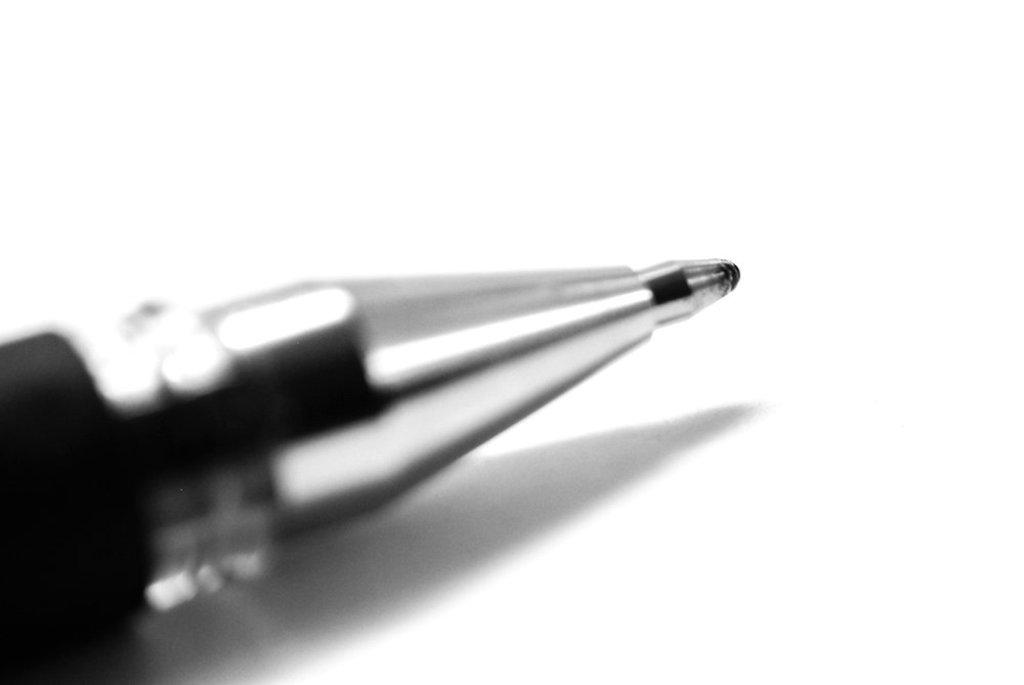pen: (0, 263, 739, 667)
